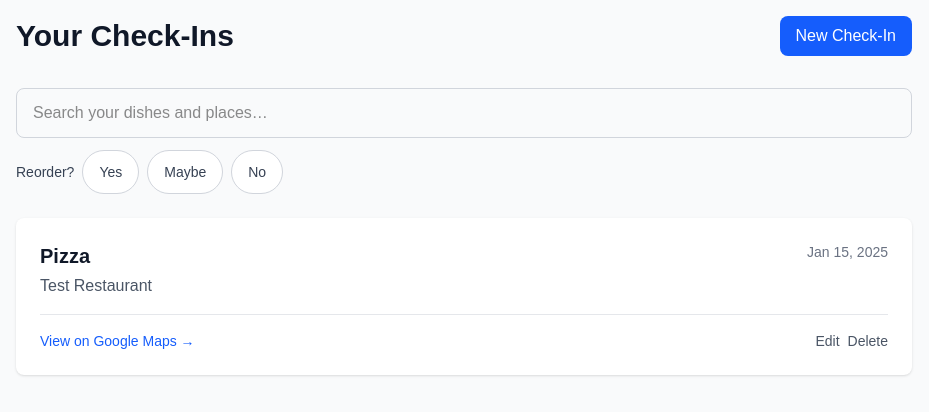
HistoryPage › should delete check-in when delete button is clicked
The image size is (929, 412).
Expected: the heading "Pizza" is shown, [40,242,90,270]
Click the button "Delete": (868, 341) [848,331,888,351]
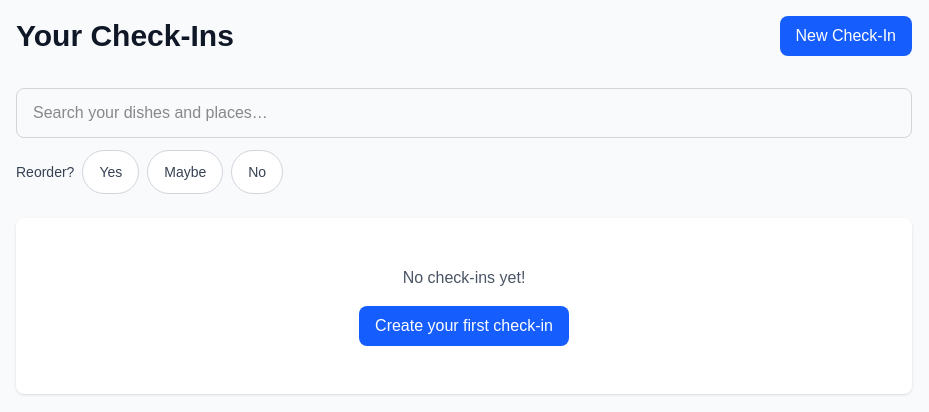
Expected: the heading "Pizza" is gone
